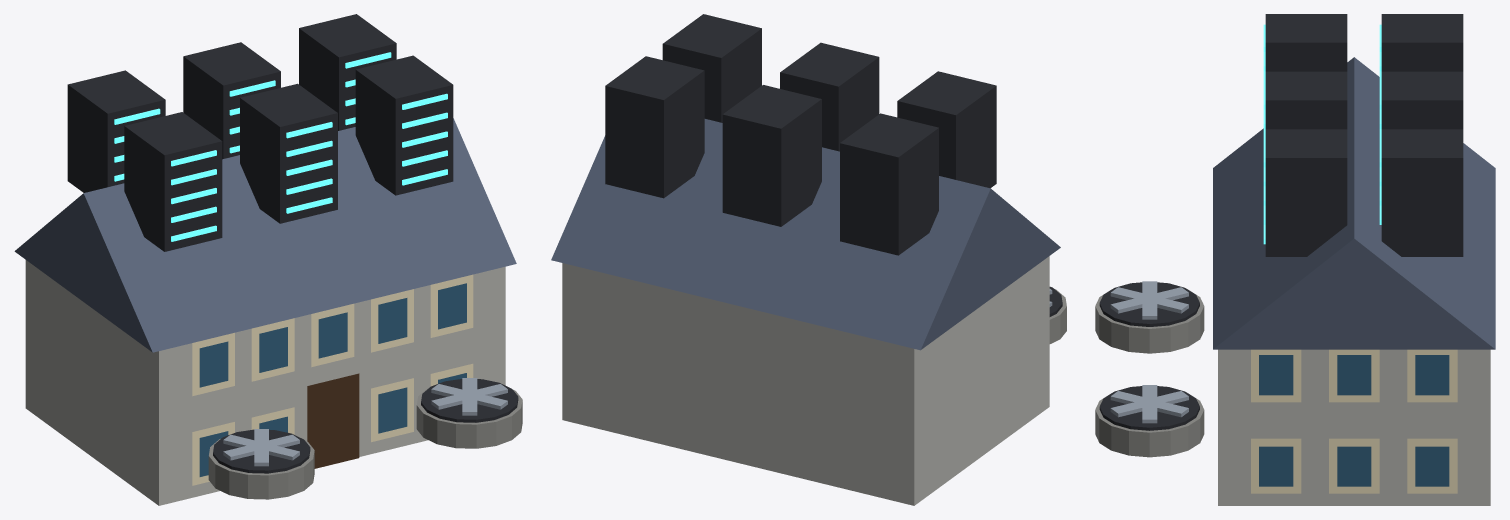
Rendered from building_gpu_cluster.fbx.
The picture shows the model from 3 angles, left to right: view 1: azimuth 30°, elevation 25°; view 2: azimuth 150°, elevation 25°; view 3: azimuth 270°, elevation 25°; orthographic projection. The views are drawn at different scales.
Visible parts, largest first — view 1: building_gpu_cluster; view 2: building_gpu_cluster; view 3: building_gpu_cluster.
Boxes of the visible parts, <box> form: building_gpu_cluster: <box>14,14,522,505</box>; building_gpu_cluster: <box>551,14,1066,505</box>; building_gpu_cluster: <box>1095,14,1495,505</box>.
Bounding box in the file's own units: 63 × 54 × 58.75.
